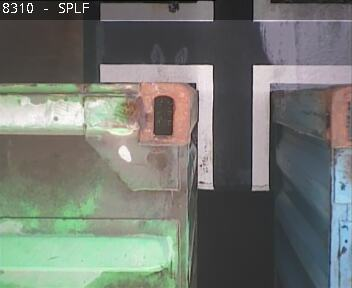groundmarker_1: (100, 64, 352, 189)
